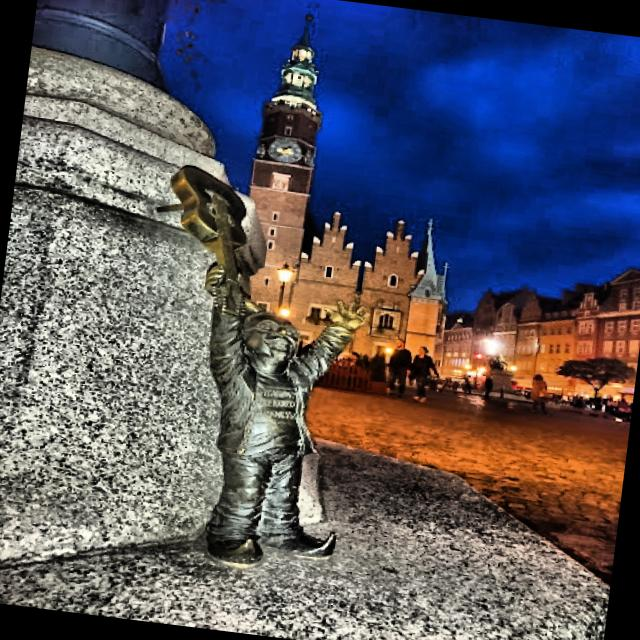Leszko_z_Wroclawia: (169, 164, 368, 565)
